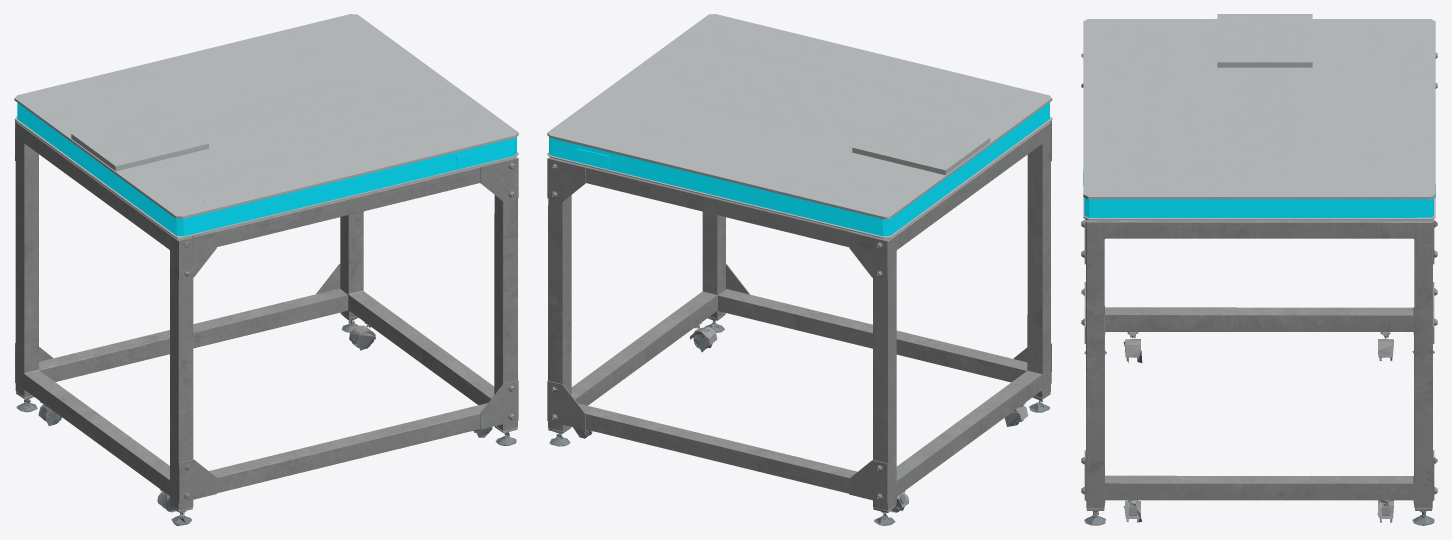
File: craft_r18_photon_altar.glb
3 views of the same model, side by side, from view 1: azimuth 30°, elevation 25°; view 2: azimuth 150°, elevation 25°; view 3: azimuth 270°, elevation 25° (orthographic). The views are drawn at different scales.
Visible parts, largest first — view 1: craft_r18_photon_altar; view 2: craft_r18_photon_altar; view 3: craft_r18_photon_altar.
Boxes of the visible parts, x1,y1,x2,y2 form: craft_r18_photon_altar: (14, 14, 518, 525); craft_r18_photon_altar: (547, 14, 1052, 525); craft_r18_photon_altar: (1081, 14, 1437, 525).
Bounding box in the file's own units: 0.8992 × 0.8023 × 0.7603.
5 materials, 5 textured.
